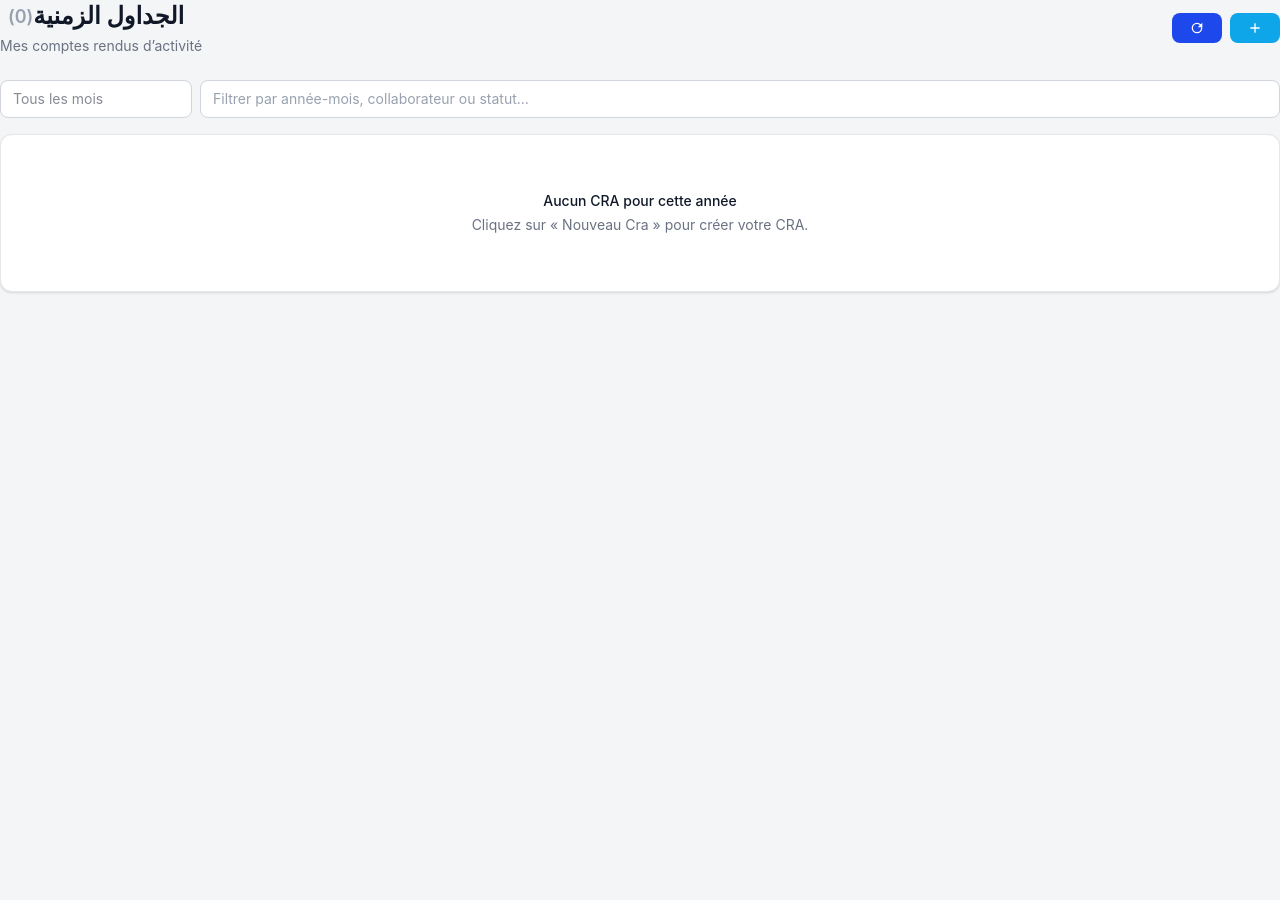
it: CraList › affiche l’état vide et crée le CRA du mois pour un consultant
Expected: the text "Aucun CRA pour cette année" is shown, [543,191,737,211]
Step 1. Click the button named "Nouveau Cra" → x=1255, y=28, box [1230,13,1279,43]
(page scrolled)
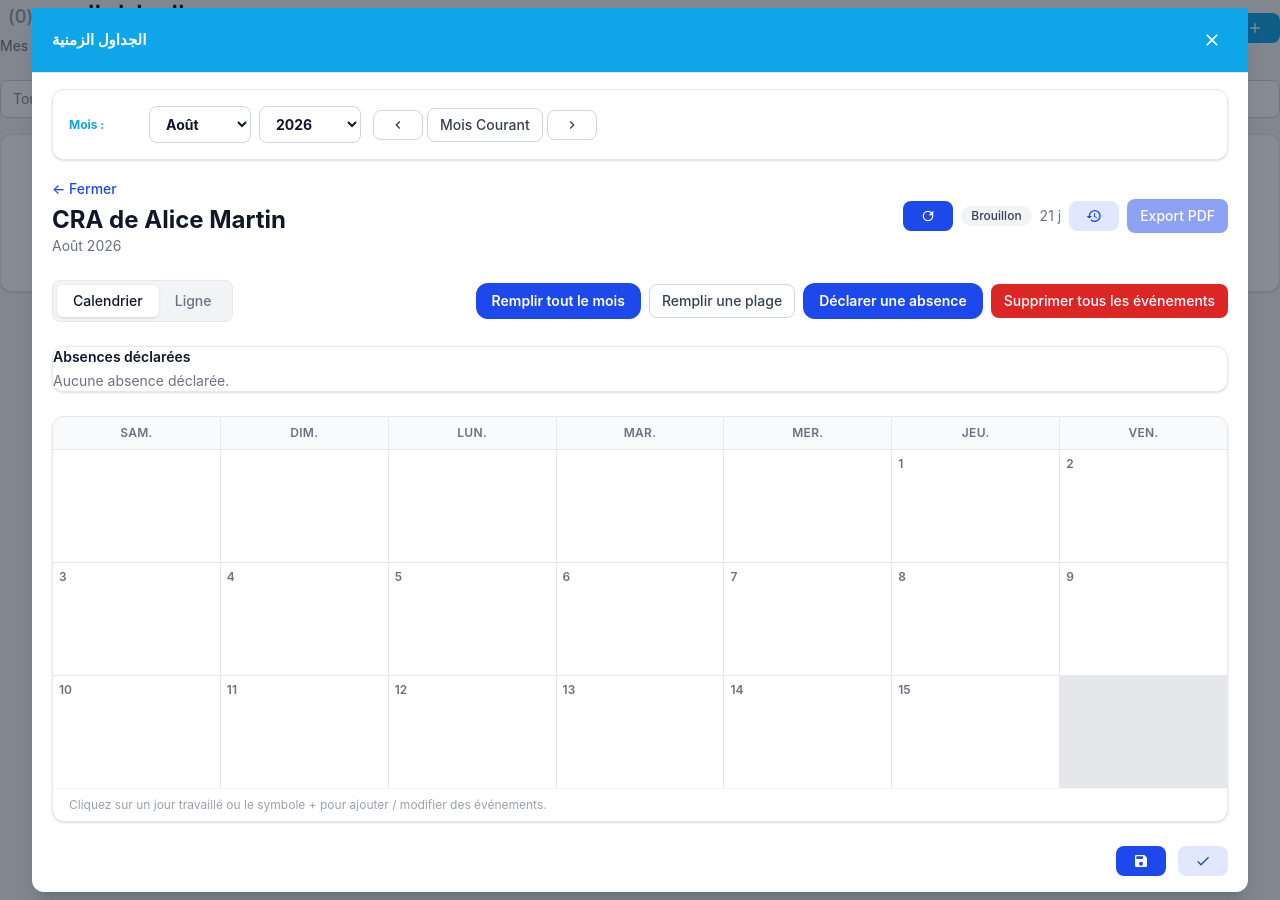
Result: the dialog is shown
